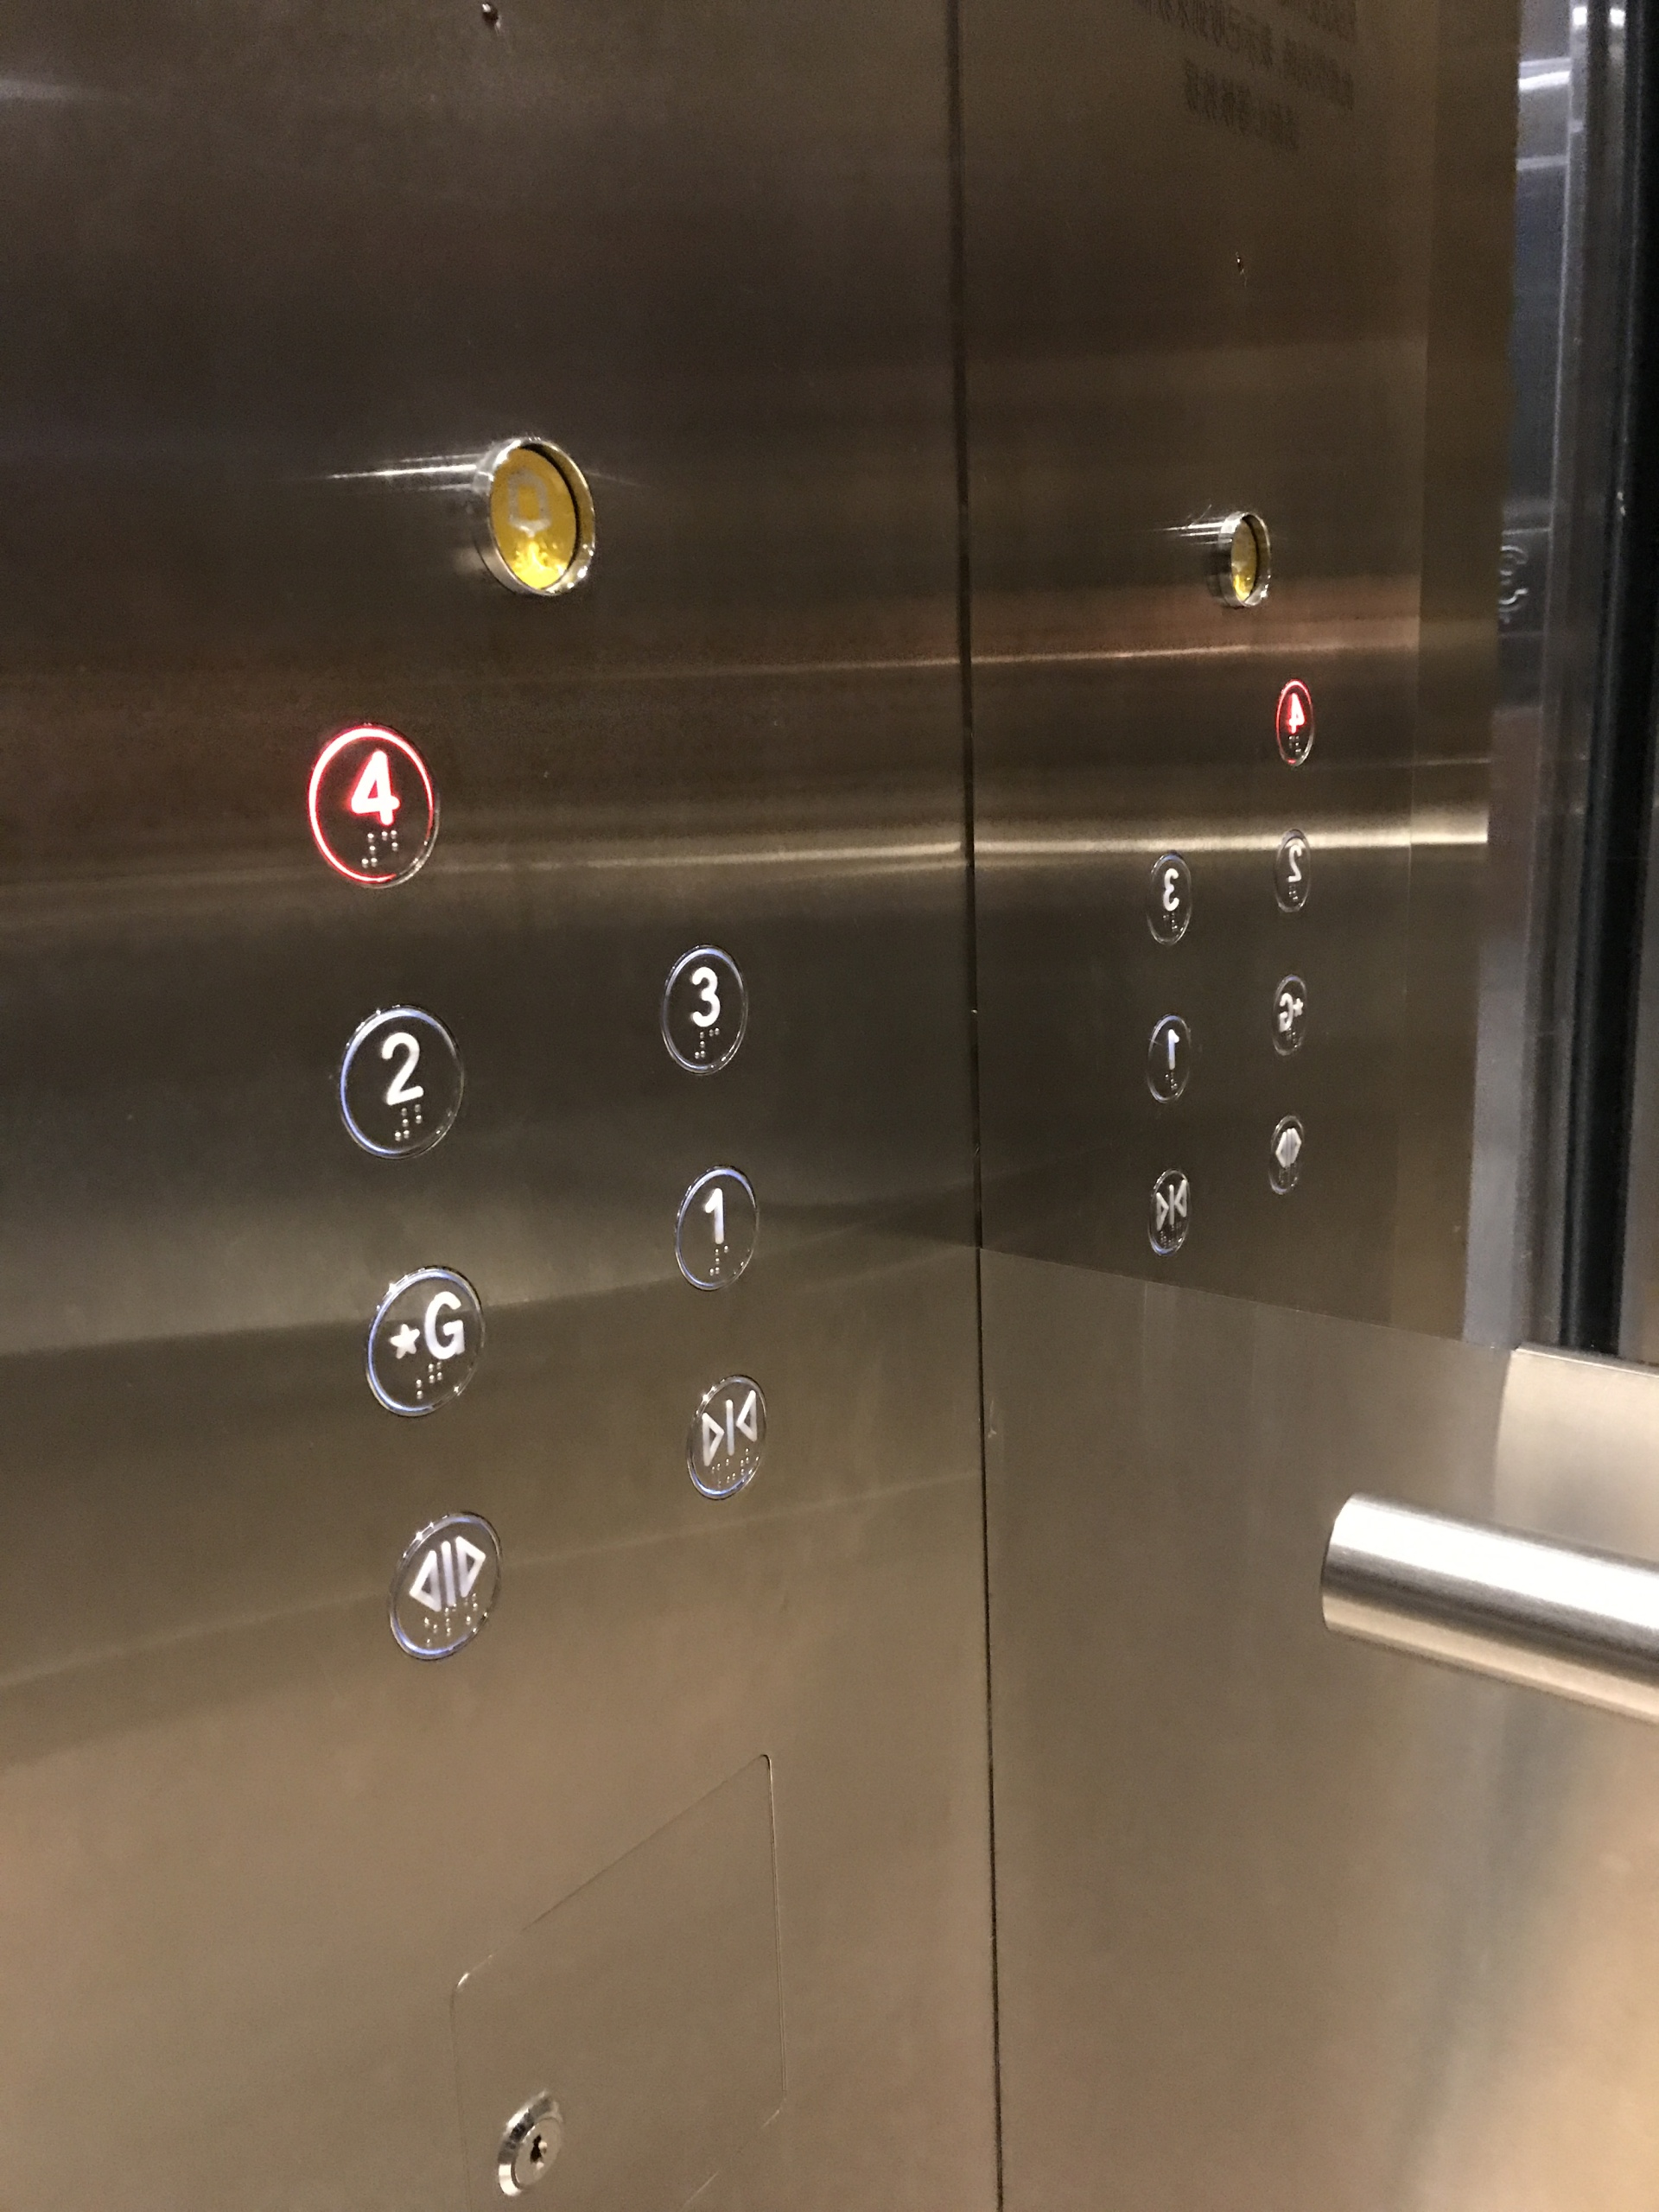1: (667, 1162, 763, 1292)
2: (335, 1003, 469, 1165)
3: (652, 942, 756, 1078)
4: (301, 721, 444, 894)
alarm: (476, 427, 603, 599), (1213, 505, 1276, 608)
close: (680, 1369, 774, 1498), (1143, 1163, 1192, 1256)
keyhole: (486, 2095, 577, 2196)
open: (378, 1508, 507, 1663), (1262, 1106, 1309, 1198)
sG: (357, 1261, 488, 1418)
unknown: (1140, 1010, 1199, 1106), (1138, 850, 1197, 946), (1272, 676, 1317, 770), (1269, 826, 1316, 916), (1267, 970, 1314, 1061)
